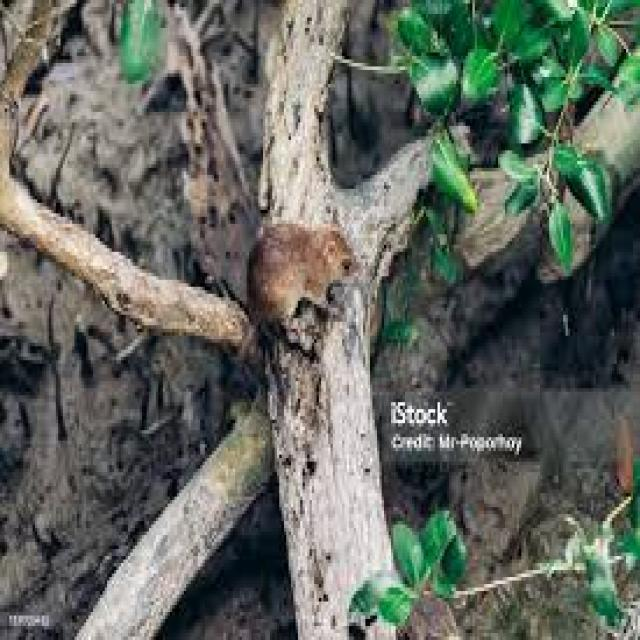Rat: (226, 204, 375, 362)
